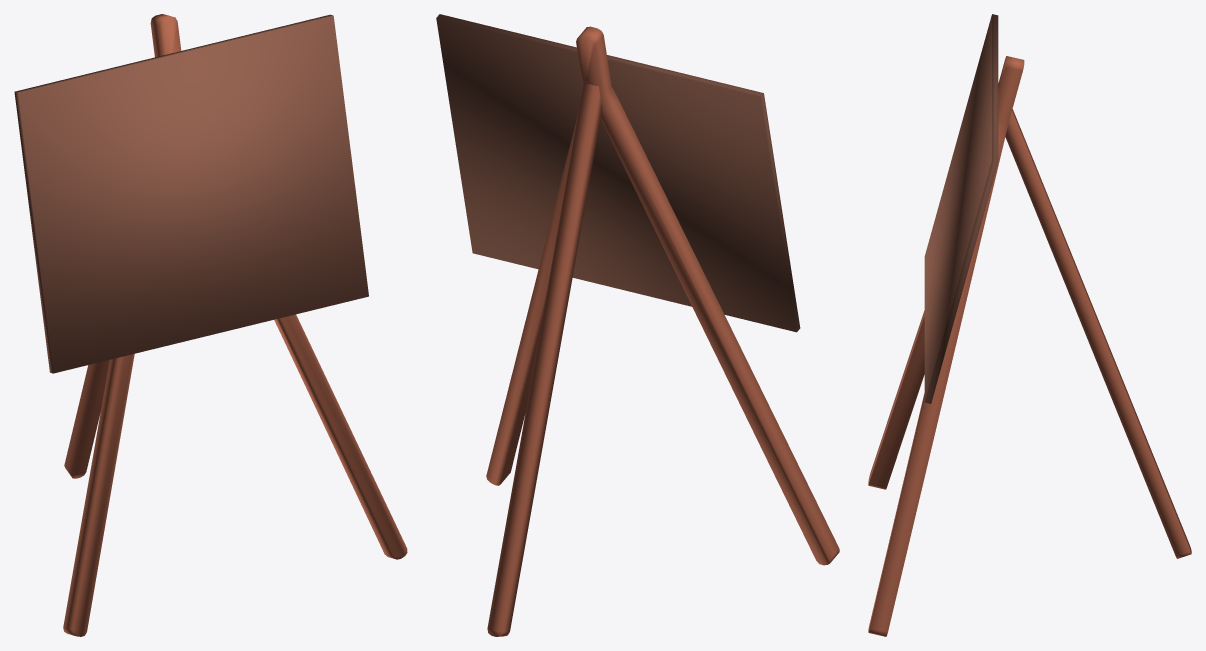
Rendered from PROP_Easel.fbx.
The picture shows the model from 3 angles, left to right: view 1: azimuth 30°, elevation 25°; view 2: azimuth 150°, elevation 25°; view 3: azimuth 270°, elevation 25°; orthographic projection. The views are drawn at different scales.
Visible parts, largest first — view 1: Easel; view 2: Easel; view 3: Easel.
Part boxes in pixels (<box>): Easel: <box>14,14,407,636</box>; Easel: <box>436,14,839,636</box>; Easel: <box>868,14,1191,636</box>.
Bounding box in the file's own units: 0.9592 × 1.46 × 0.8459.
